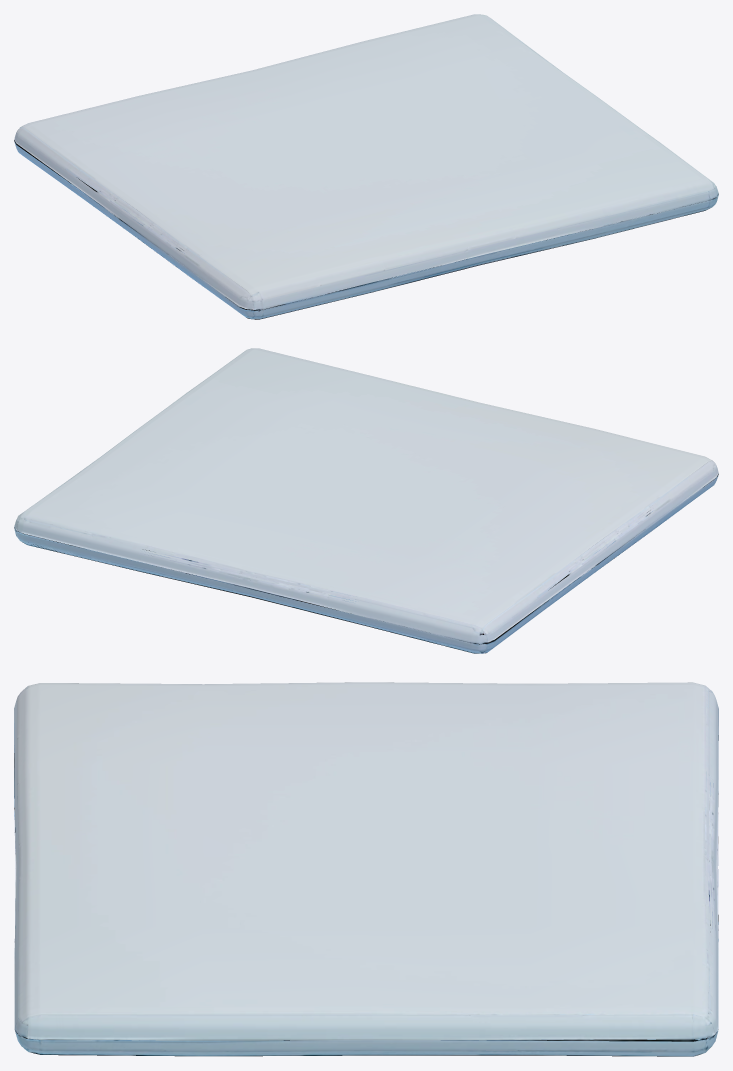
File: winter-snow-cap.glb
3 renders of one model, top to bottom at view 1: azimuth 30°, elevation 25°; view 2: azimuth 150°, elevation 25°; view 3: azimuth 270°, elevation 25°, orthographic. The views are drawn at different scales.
Parts seen in each view (by area): view 1: Baked_snow; view 2: Baked_snow; view 3: Baked_snow.
Boxes of the visible parts, x1,y1,x2,y2 form: Baked_snow: (14, 14, 718, 319); Baked_snow: (14, 348, 718, 653); Baked_snow: (14, 682, 718, 1056).
Bounding box in the file's own units: 3.84 × 0.2622 × 3.33.
Materials: 1 (1 with a texture image).
